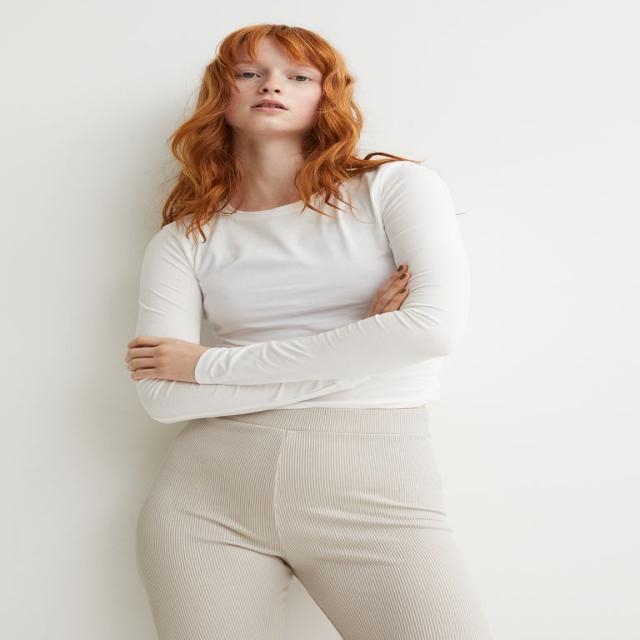plain: (109, 165, 472, 416)
